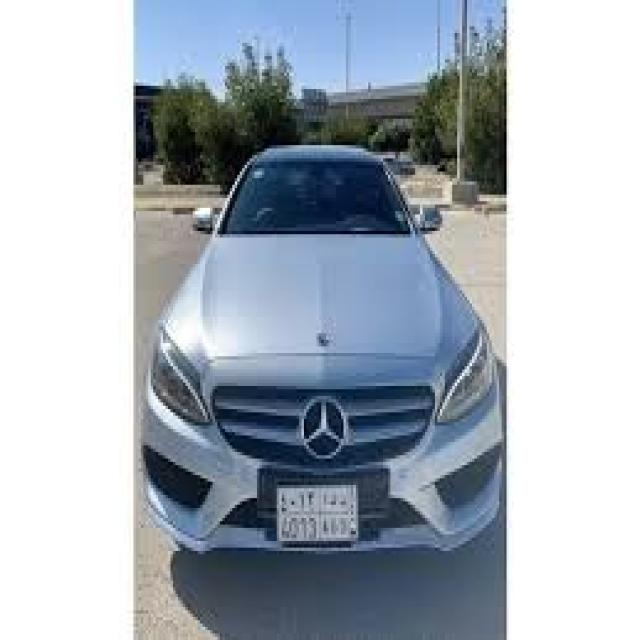license_plate: (274, 482, 364, 544)
